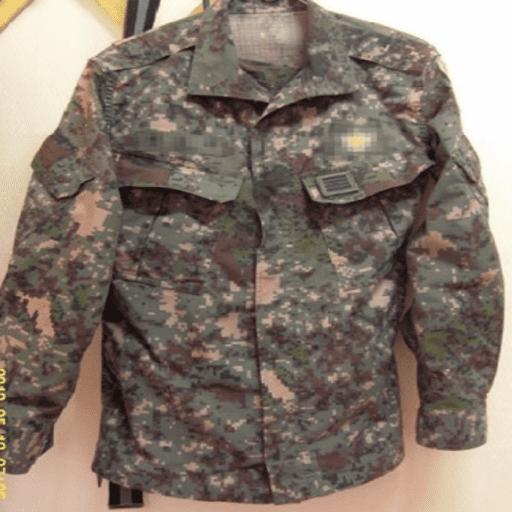korea army: (0, 0, 505, 507)
